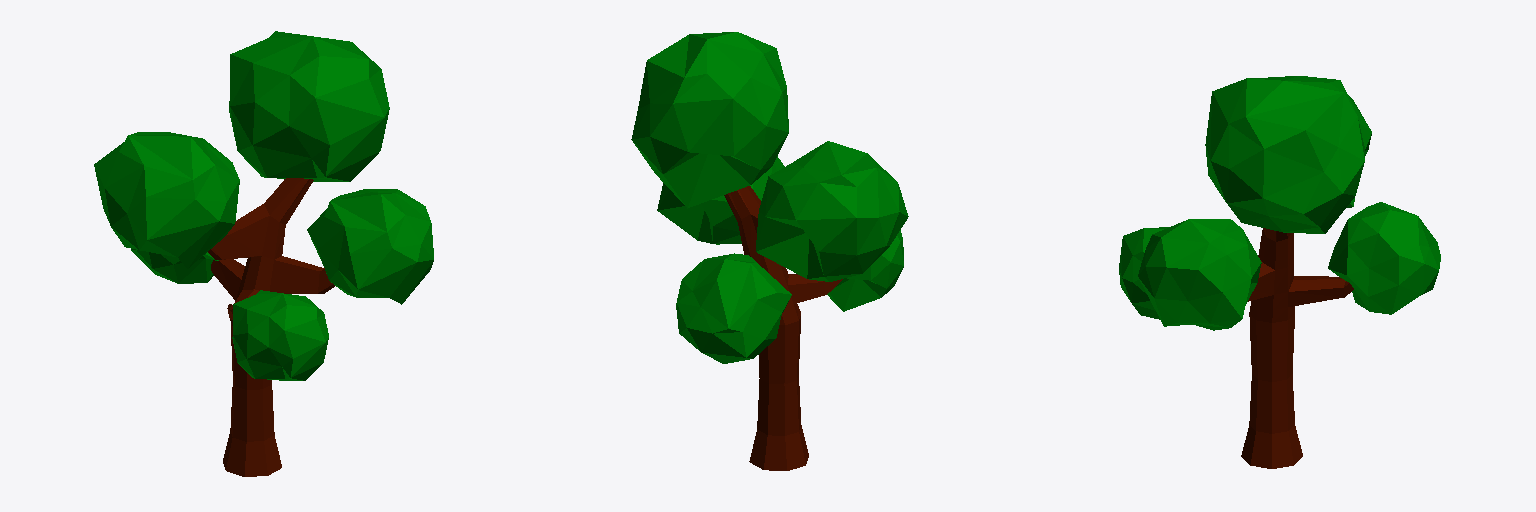
File: arbolito2.obj
3 renders of one model, left to right at view 1: azimuth 30°, elevation 25°; view 2: azimuth 150°, elevation 25°; view 3: azimuth 270°, elevation 25°, orthographic.
Visible parts, largest first — view 1: Icosphere.001, Cylinder, Icosphere; view 2: Icosphere.001, Icosphere, Cylinder; view 3: Icosphere.001, Cylinder, Icosphere.
Boxes of the visible parts, x1=… form: Icosphere.001: x1=94, y1=31, x2=433, y2=380; Cylinder: x1=208, y1=178, x2=334, y2=476; Icosphere: x1=131, y1=165, x2=433, y2=304; Icosphere.001: x1=631, y1=32, x2=908, y2=311; Icosphere: x1=676, y1=156, x2=828, y2=363; Cylinder: x1=724, y1=186, x2=842, y2=470; Icosphere.001: x1=1119, y1=76, x2=1371, y2=330; Cylinder: x1=1241, y1=228, x2=1353, y2=468; Icosphere: x1=1138, y1=202, x2=1440, y2=323.
Bounding box in the file's own units: 4.94 × 7.31 × 5.24.